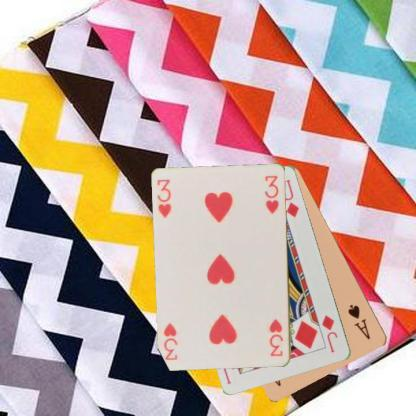3h: (155, 177, 173, 219), (267, 316, 284, 358)
As: (346, 301, 372, 341)
Jd: (320, 313, 339, 354)
